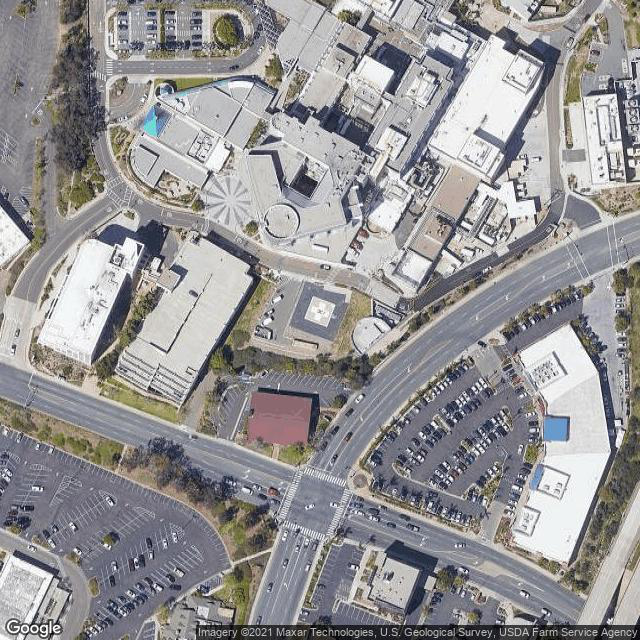Helipad: (305, 293, 335, 326)
